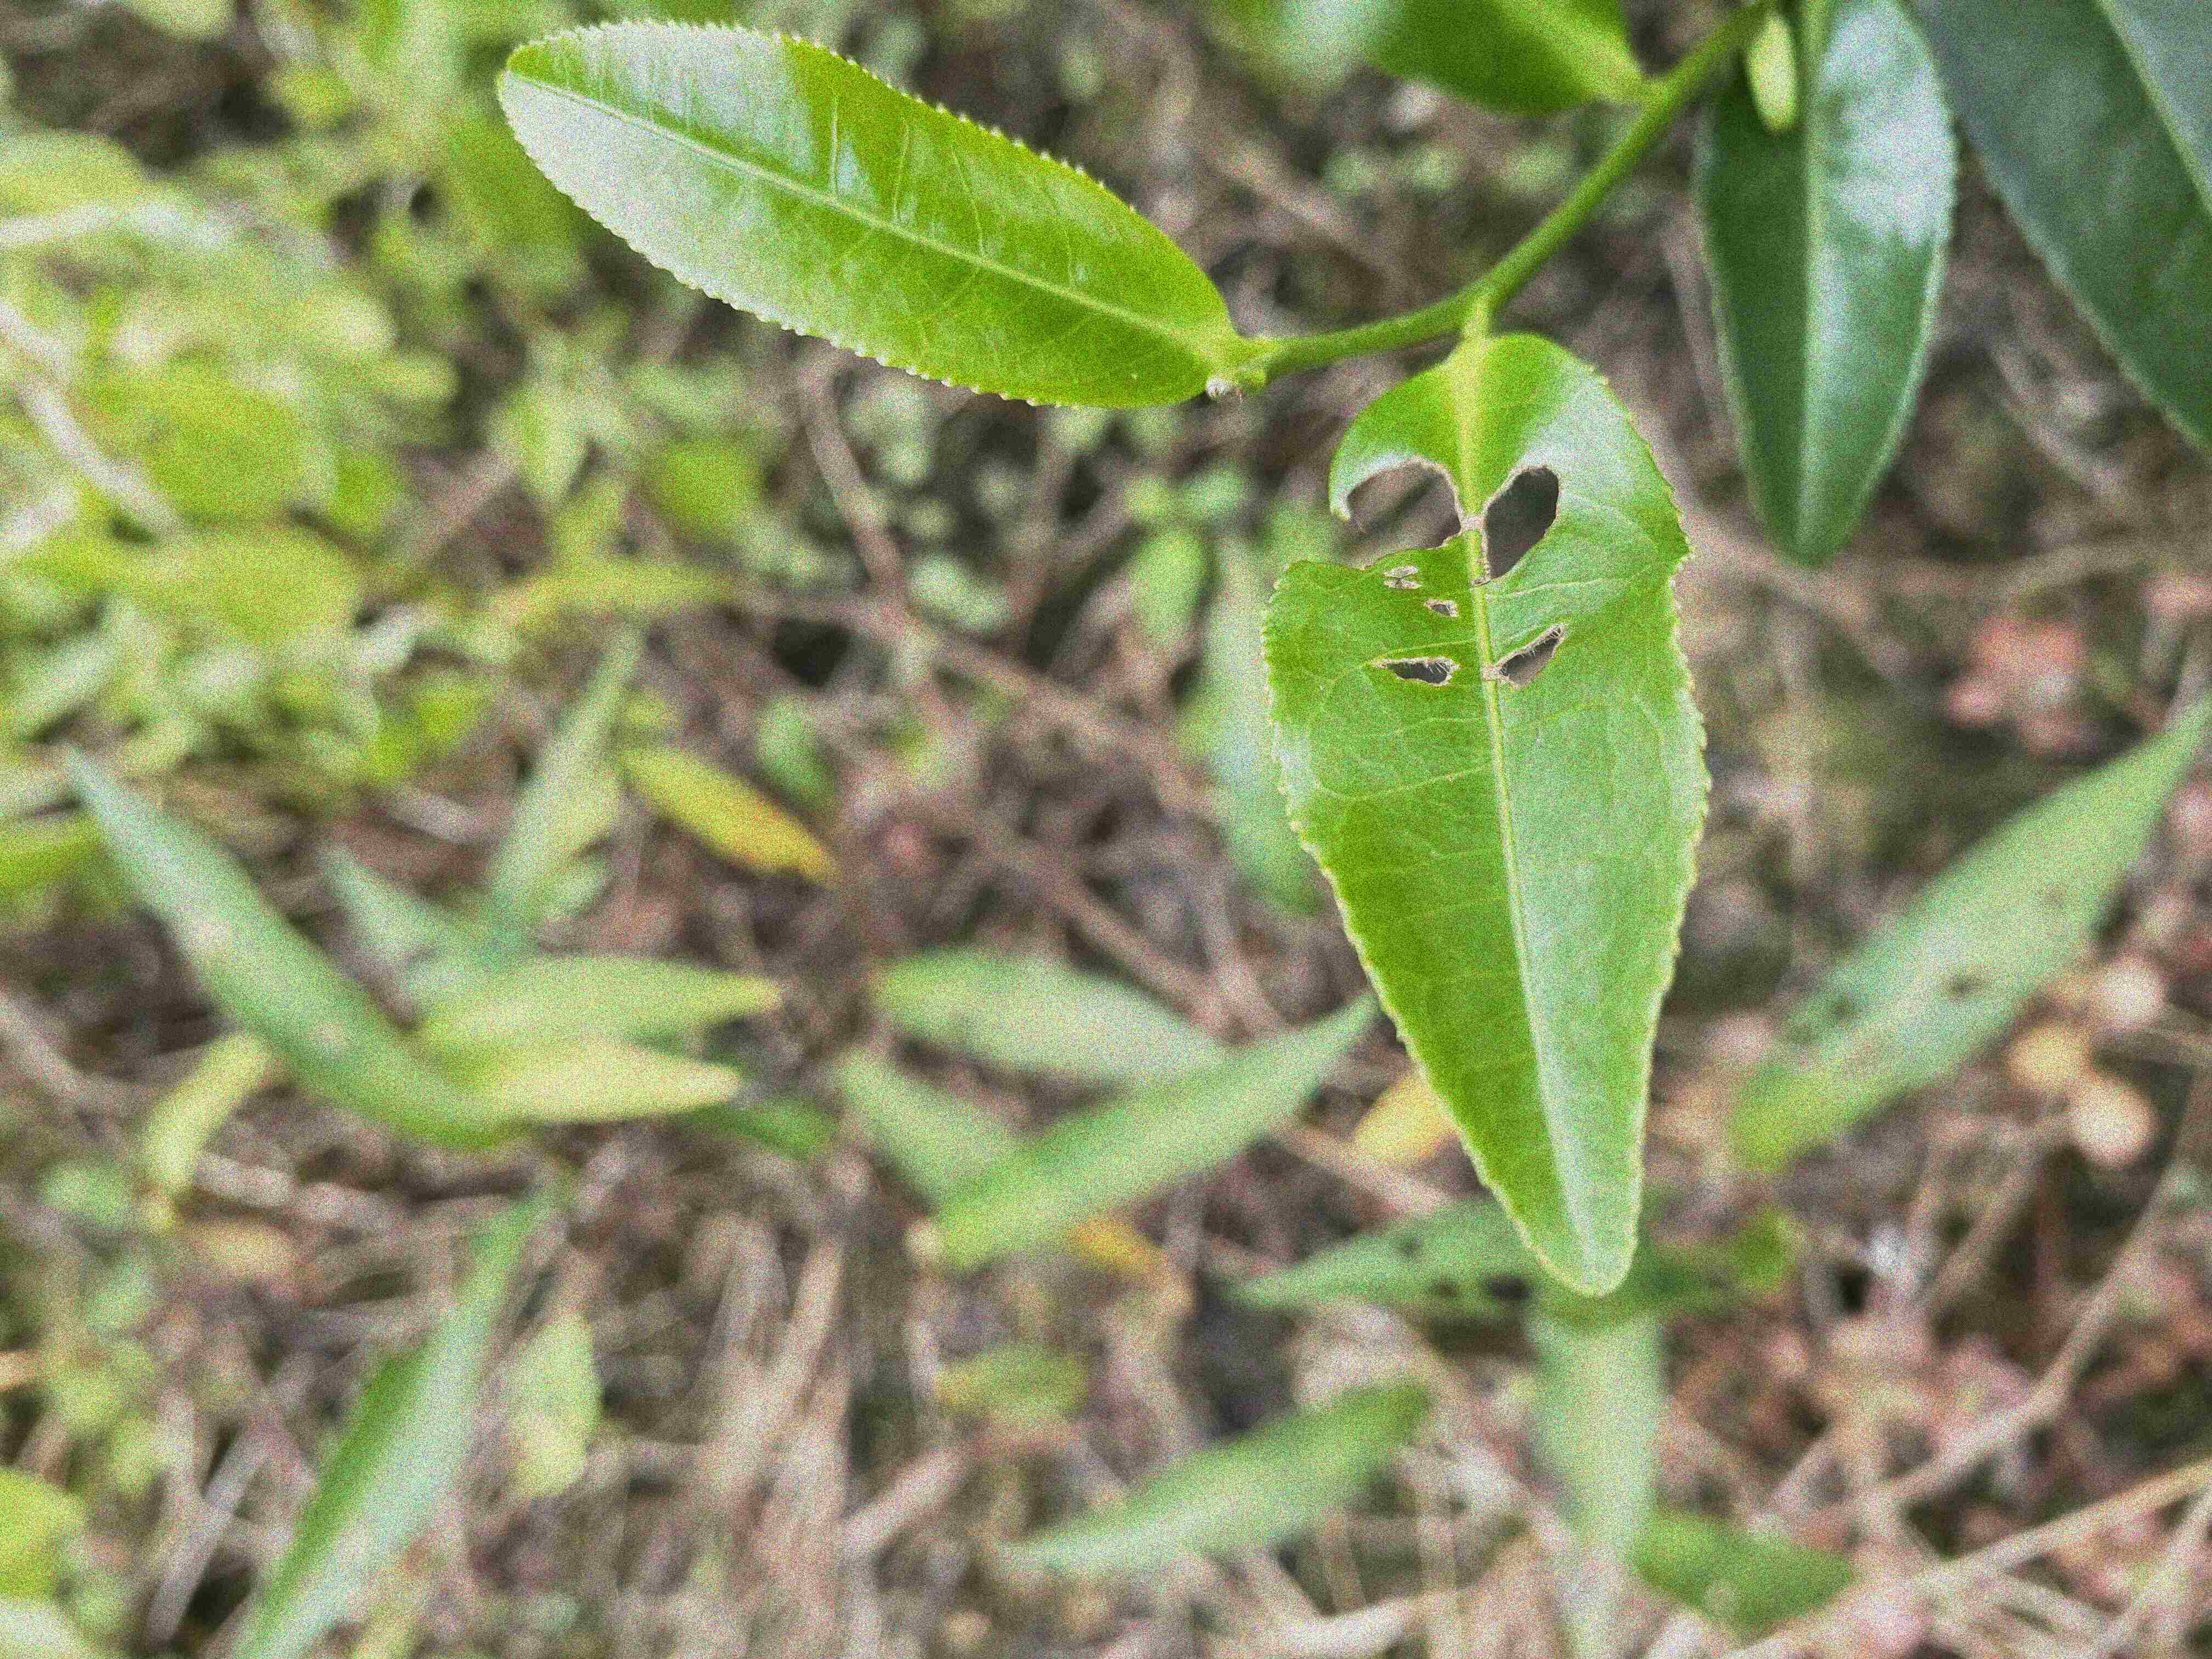chihuo_high: (1263, 328, 1714, 1298)
healthy: (493, 16, 1235, 411)
